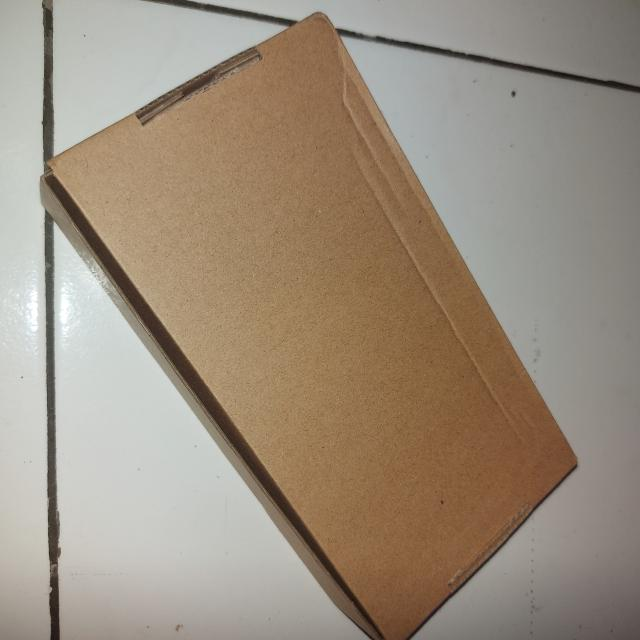Organik: (43, 8, 584, 640)
